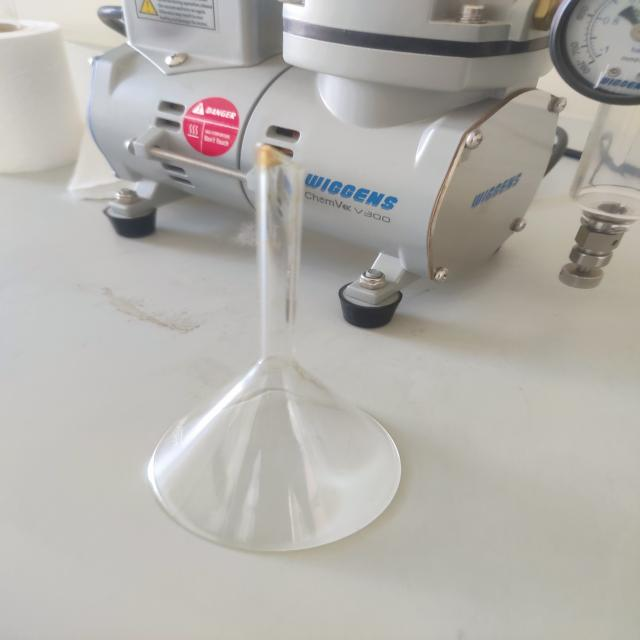Funnel: (128, 117, 432, 576)
